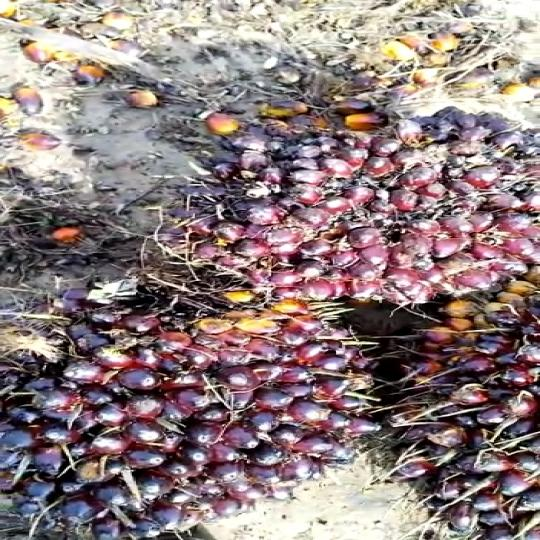kurang masak: (0, 299, 374, 533), (209, 106, 540, 314), (348, 272, 540, 536)
